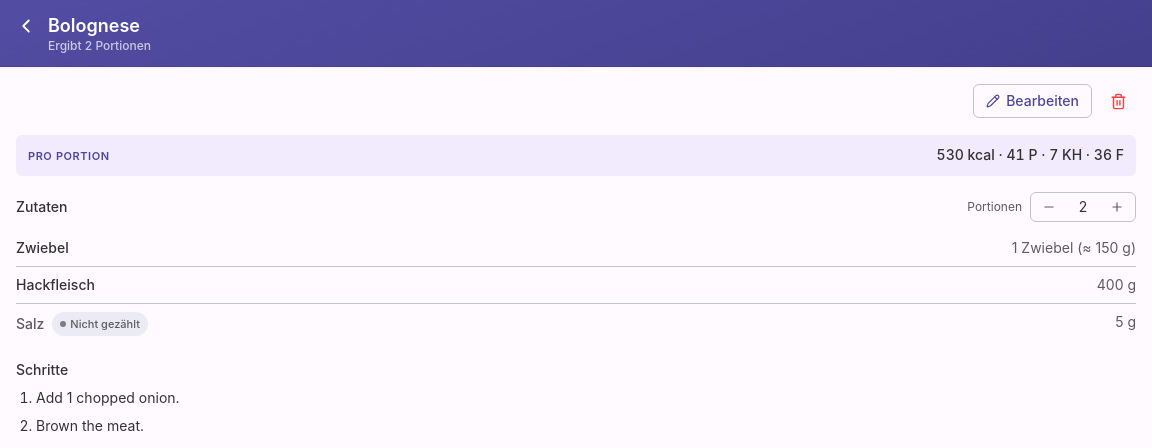
Test: RecipeDetail — servings multiplier › rescales mass-only, piece-quantity, and untracked rows when incremented
Expected: the heading "Bolognese" is shown, [48,15,140,36]
Click the button named "Eine Portion mehr" at (1117, 207), box [1103,195,1131,219]
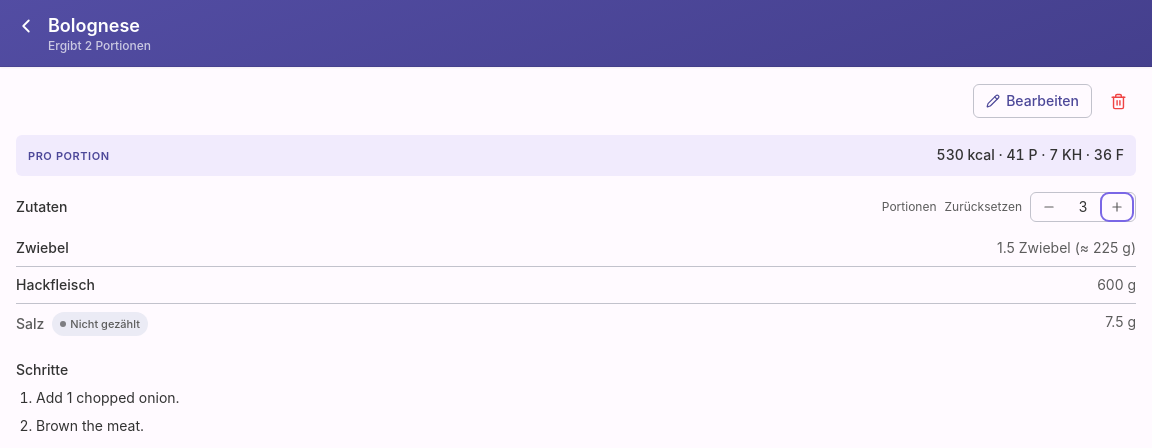
Click the button named "Eine Portion mehr" at (1117, 207), box [1103,195,1131,219]
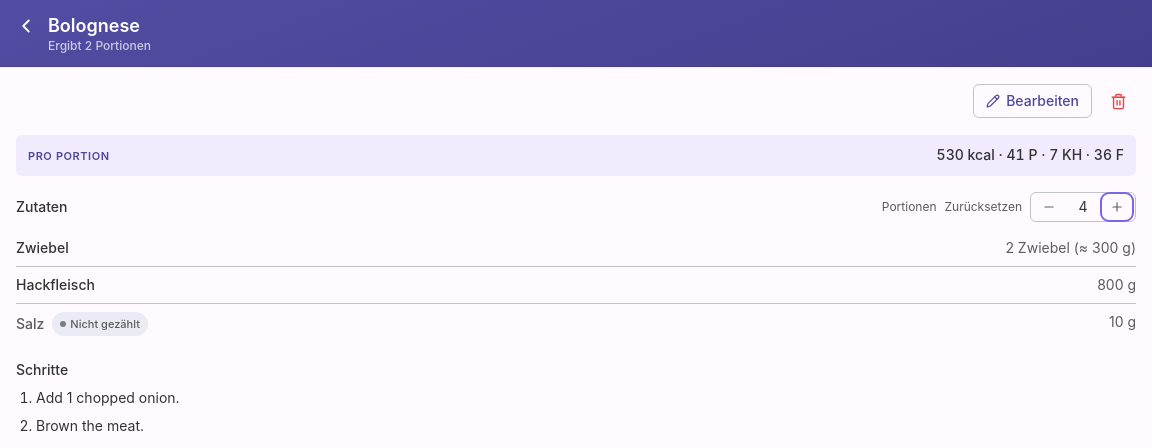
Result: the text "2 Zwiebel (≈ 300 g)" is shown at [1005,238,1136,258]
Result: the text "800 g" is shown at [1097,275,1136,295]
Result: the text "10 g" is shown at [1109,312,1136,332]
